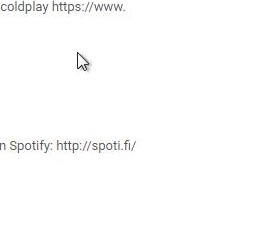cursor: (76, 51, 89, 72)
